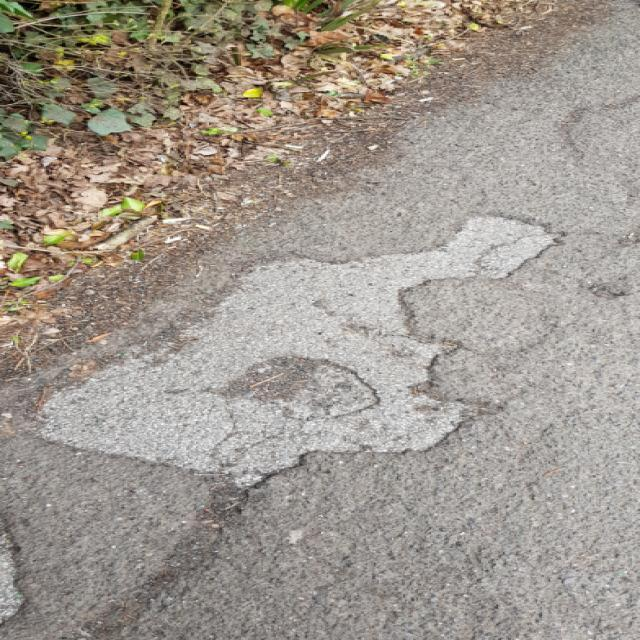pothole: (11, 208, 568, 489), (220, 353, 386, 422)
